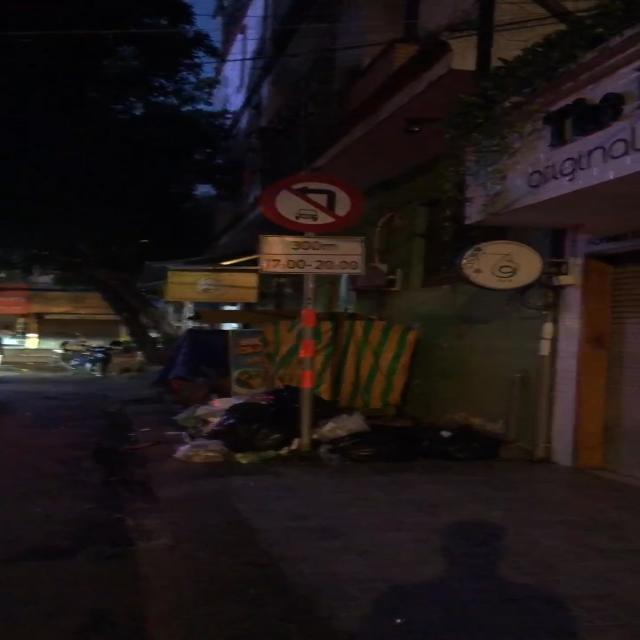Bien bao cam xe o to re trai: (254, 174, 362, 234)
